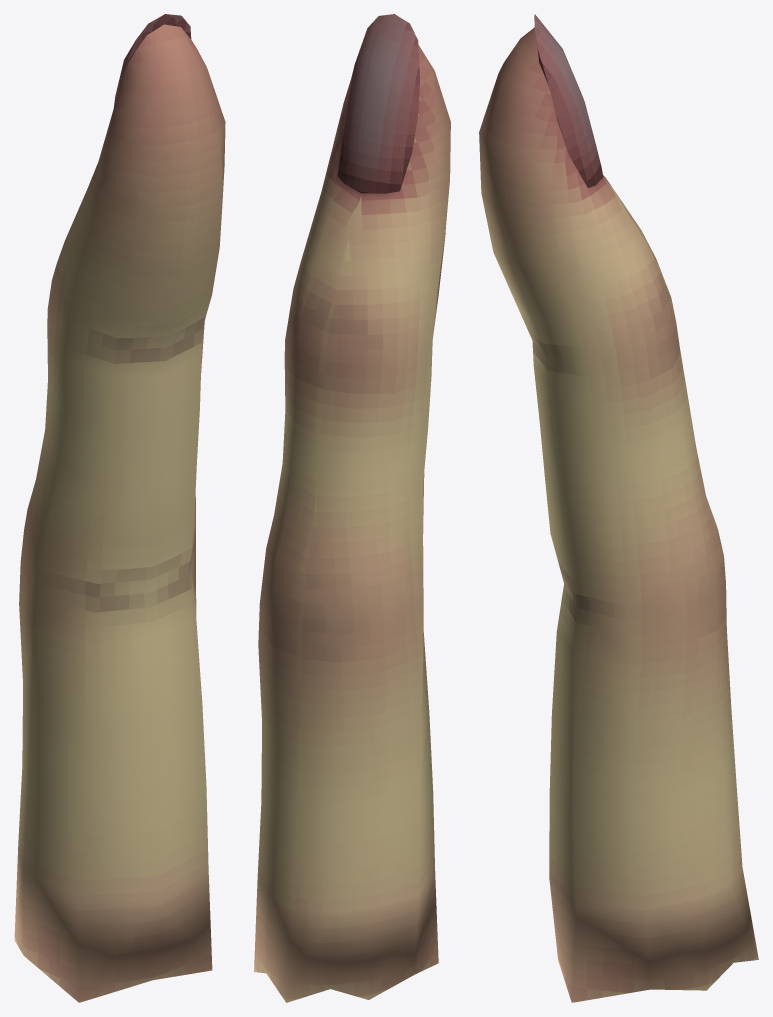
File: finger.glb
3 views of the same model, side by side, from view 1: azimuth 30°, elevation 25°; view 2: azimuth 150°, elevation 25°; view 3: azimuth 270°, elevation 25° (orthographic). The views are drawn at different scales.
Visible parts, largest first — view 1: Plane; view 2: Plane; view 3: Plane.
Boxes of the visible parts, bbox=[...] form: Plane: bbox=[14, 14, 225, 1002]; Plane: bbox=[254, 14, 450, 1002]; Plane: bbox=[479, 14, 758, 1002].
Size of the model in its own units: 0.1 by 0.5613 by 0.149.
Materials: 1 (1 with a texture image).
